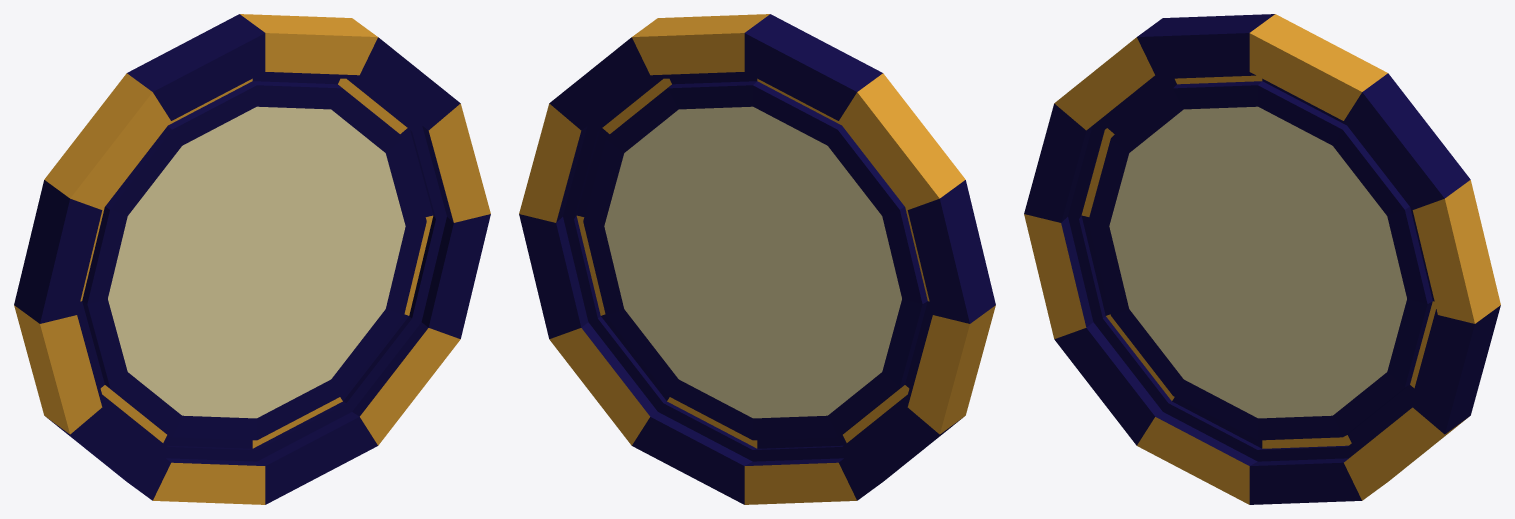
The model's file is UI_SM_Poker_Chip.fbx.
3 views of the same model, side by side, from view 1: azimuth 30°, elevation 25°; view 2: azimuth 150°, elevation 25°; view 3: azimuth 330°, elevation 25° (orthographic).
Parts seen in each view (by area): view 1: UI_SM_Poker_Chip.001; view 2: UI_SM_Poker_Chip.001; view 3: UI_SM_Poker_Chip.001.
Part boxes in pixels (left/top/right/bottom): UI_SM_Poker_Chip.001: left=14, top=14, right=490, bottom=504; UI_SM_Poker_Chip.001: left=519, top=14, right=995, bottom=504; UI_SM_Poker_Chip.001: left=1024, top=14, right=1500, bottom=504.
Size of the model in its own units: 200 by 19.95 by 200.
